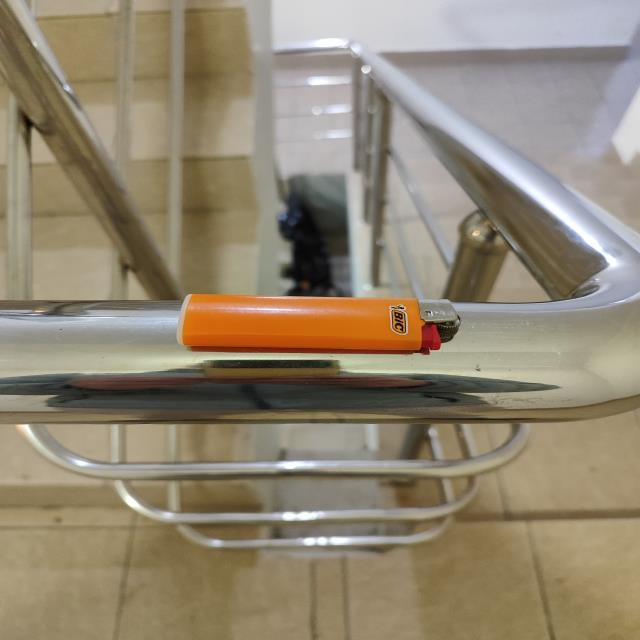lighter: (177, 294, 459, 354)
